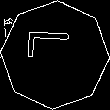L_E: (29, 38, 81, 72)
